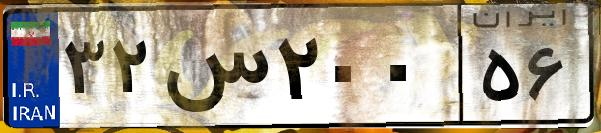0: (385, 28, 445, 110), (330, 28, 385, 110)
2: (270, 28, 330, 110), (110, 28, 158, 98)
3: (57, 26, 110, 100)
5: (475, 38, 525, 113)
6: (525, 38, 570, 115)
س: (158, 20, 270, 120)
